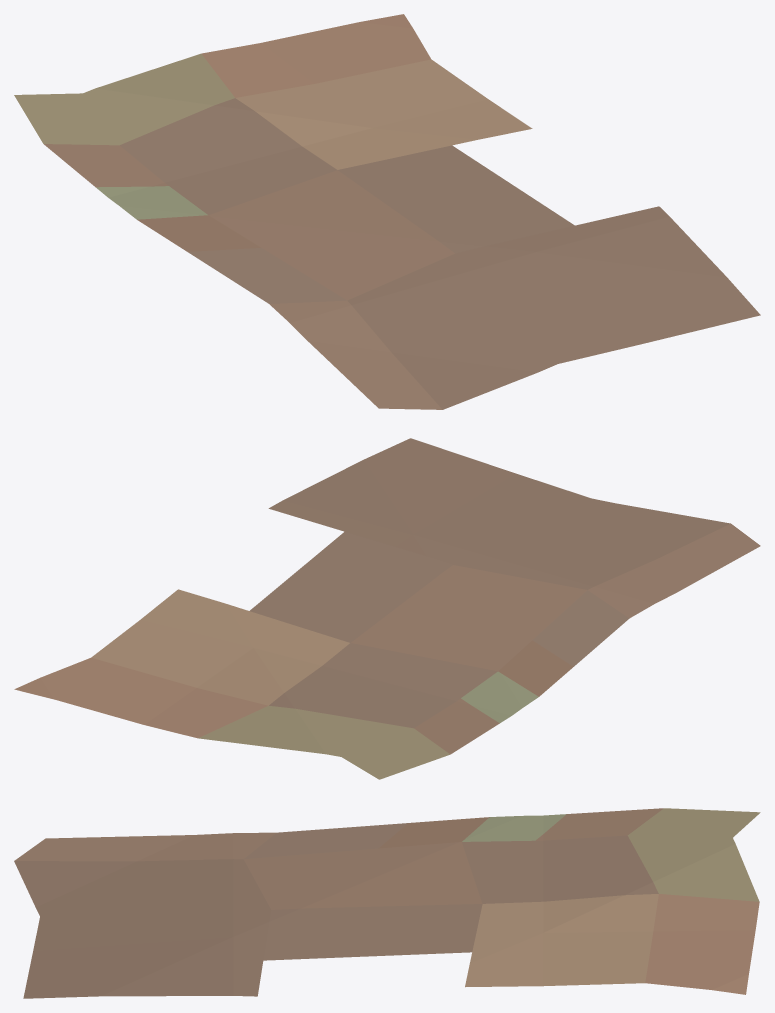
The model's file is farm_6_25_soil.glb.
3 views of the same model, one above another, from view 1: azimuth 30°, elevation 25°; view 2: azimuth 150°, elevation 25°; view 3: azimuth 270°, elevation 25° (orthographic). The views are drawn at different scales.
Visible parts, largest first — view 1: geometry_0; view 2: geometry_0; view 3: geometry_0.
Boxes of the visible parts, x1,y1,x2,y2 form: geometry_0: (14, 14, 760, 409); geometry_0: (14, 438, 760, 779); geometry_0: (14, 808, 760, 998).
Size of the model in its own units: 114 by 9.35 by 193.
